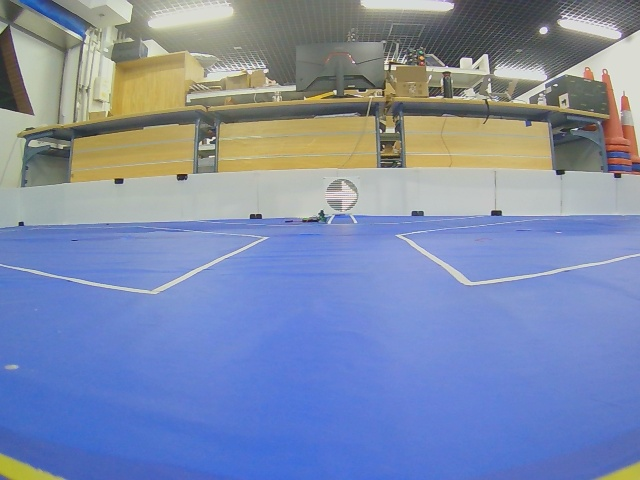right_yellow: (325, 179, 359, 212)
